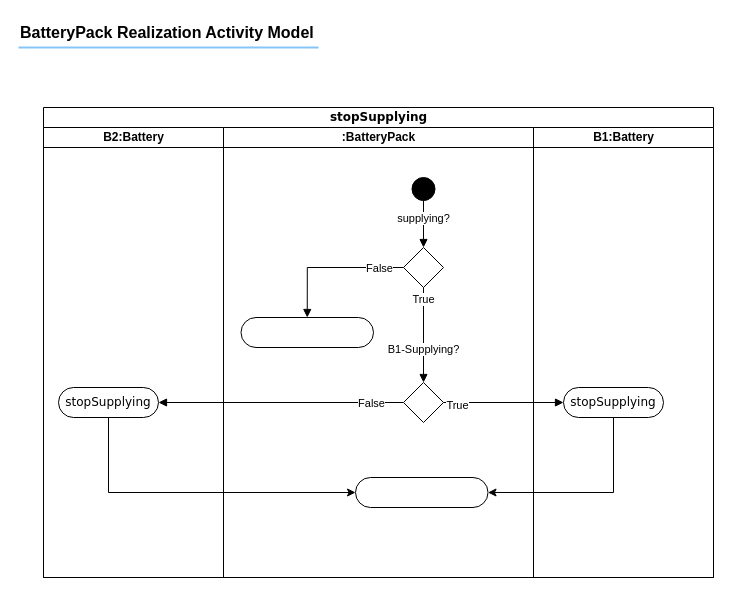
This 731x595 diagram has some shape labels left out. Here are the shapes that lost their labels. From the top down, the centre of each, then its label:
At (307,332): "stay in the current state".
At (421,492): "set state to Idle".
